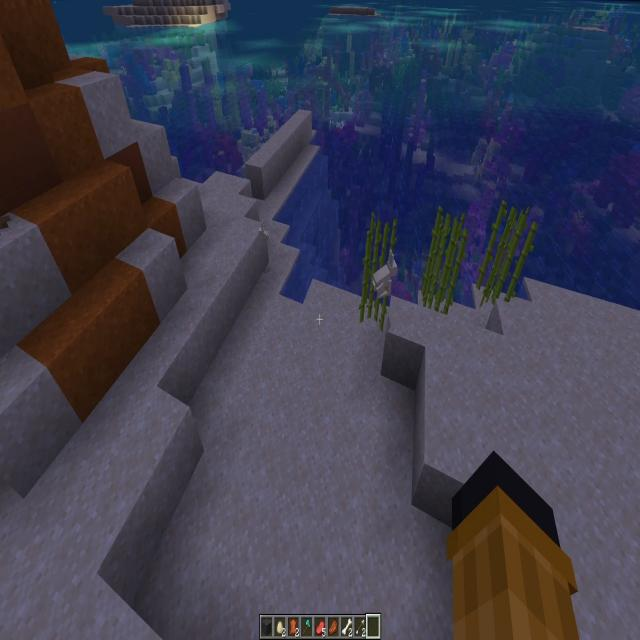Spider: (373, 254, 396, 297), (258, 224, 273, 243)
